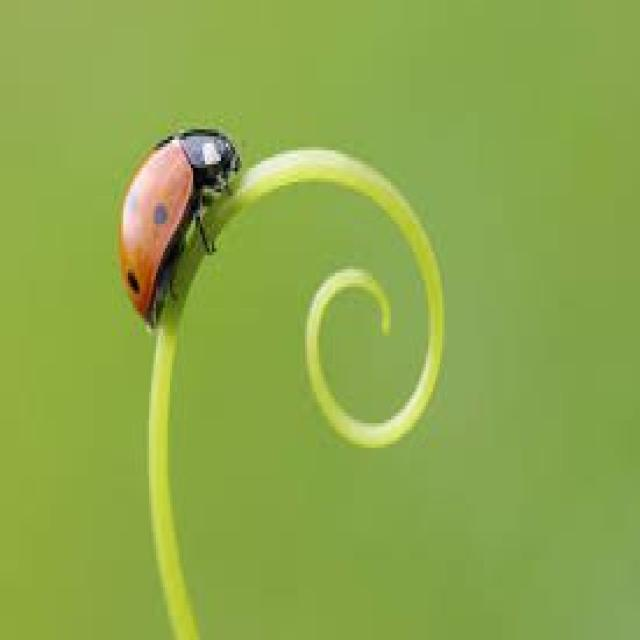ladybug: (121, 129, 237, 322)
